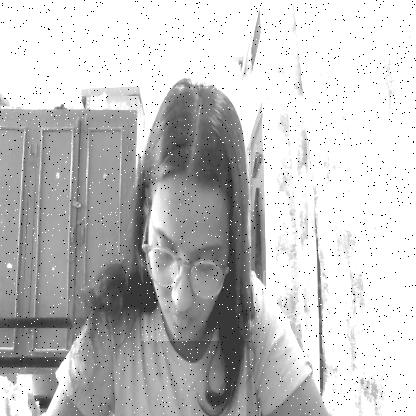Normal: (141, 87, 251, 341)
